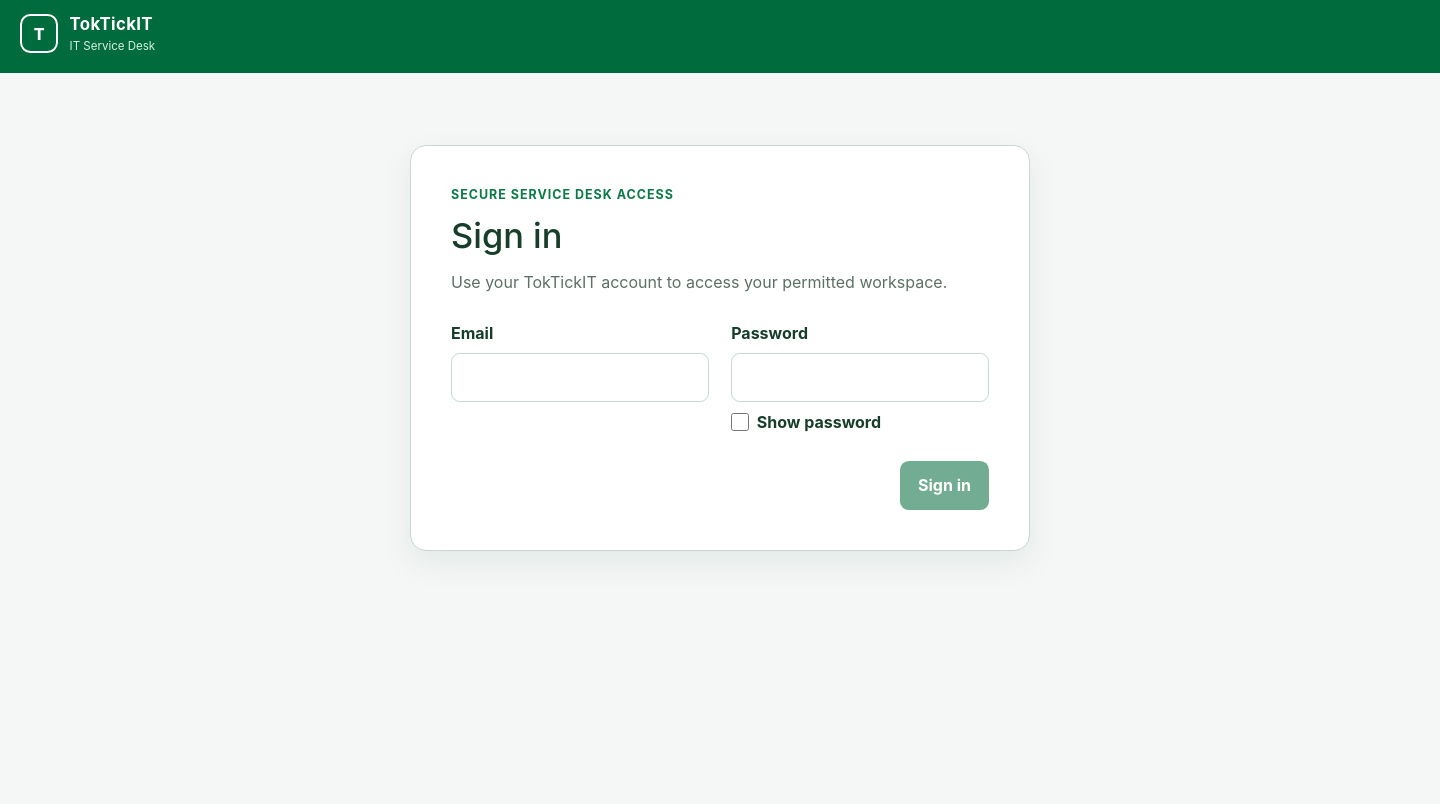
Create Ticket › keeps submission disabled while Ticket reference data is loading
This screenshot has width=1440, height=804.
Type "amina@example.test" into the field labelled "Email" at (580, 378), box [451, 353, 709, 402]
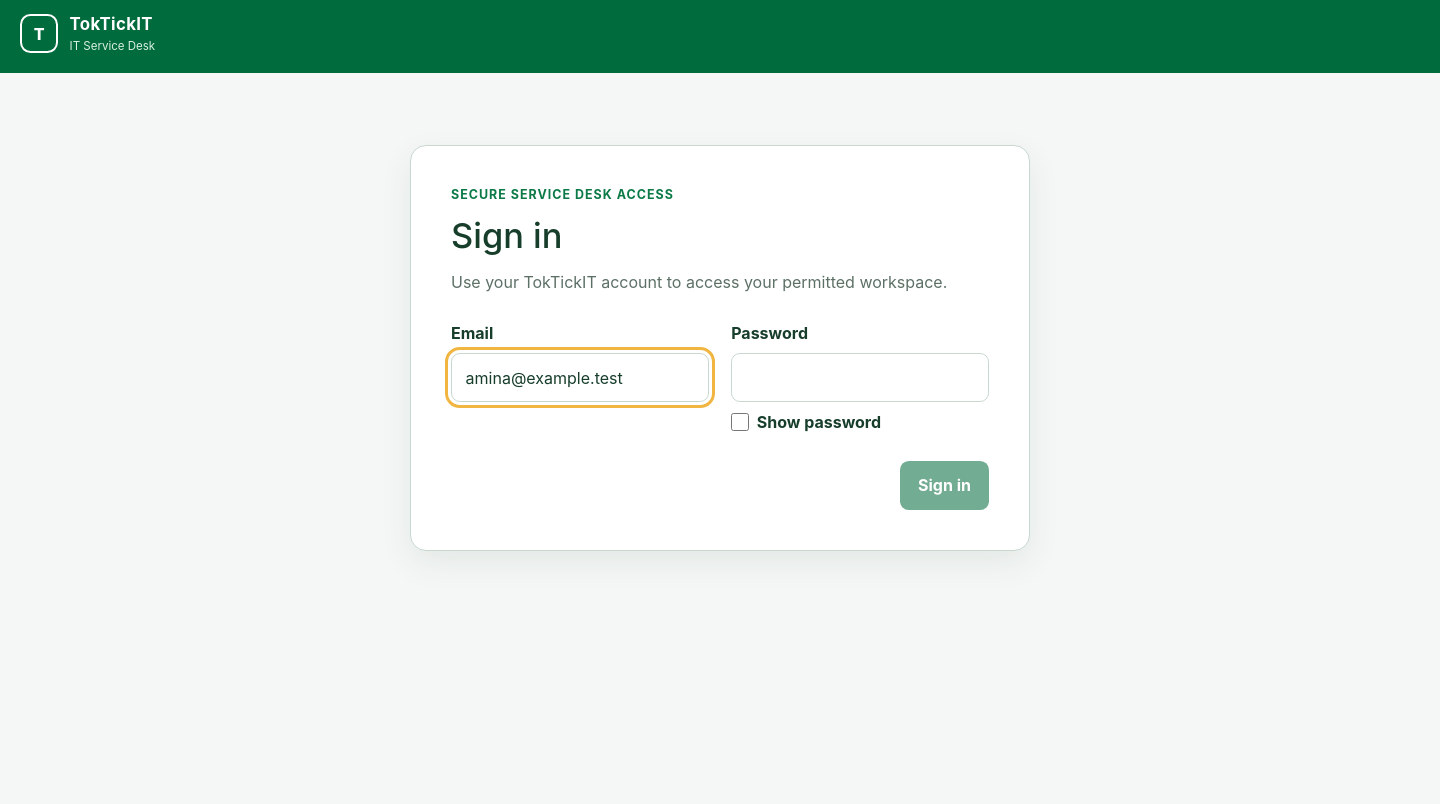
Type "Initial-Lab3!Password" into the password field labelled "Password" at (860, 378), box [731, 353, 989, 402]
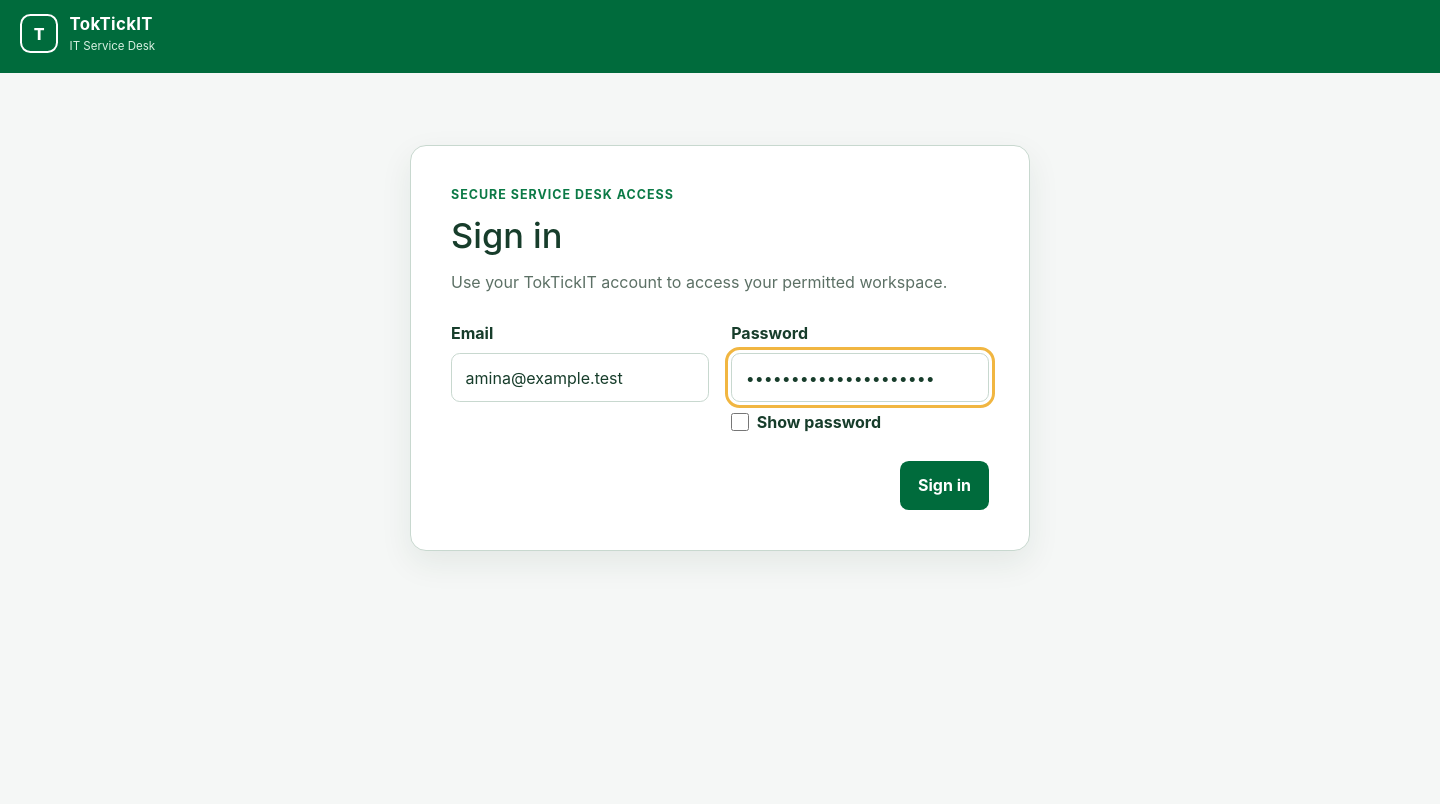
Click the button "Sign in" at (944, 485), box [900, 461, 989, 510]
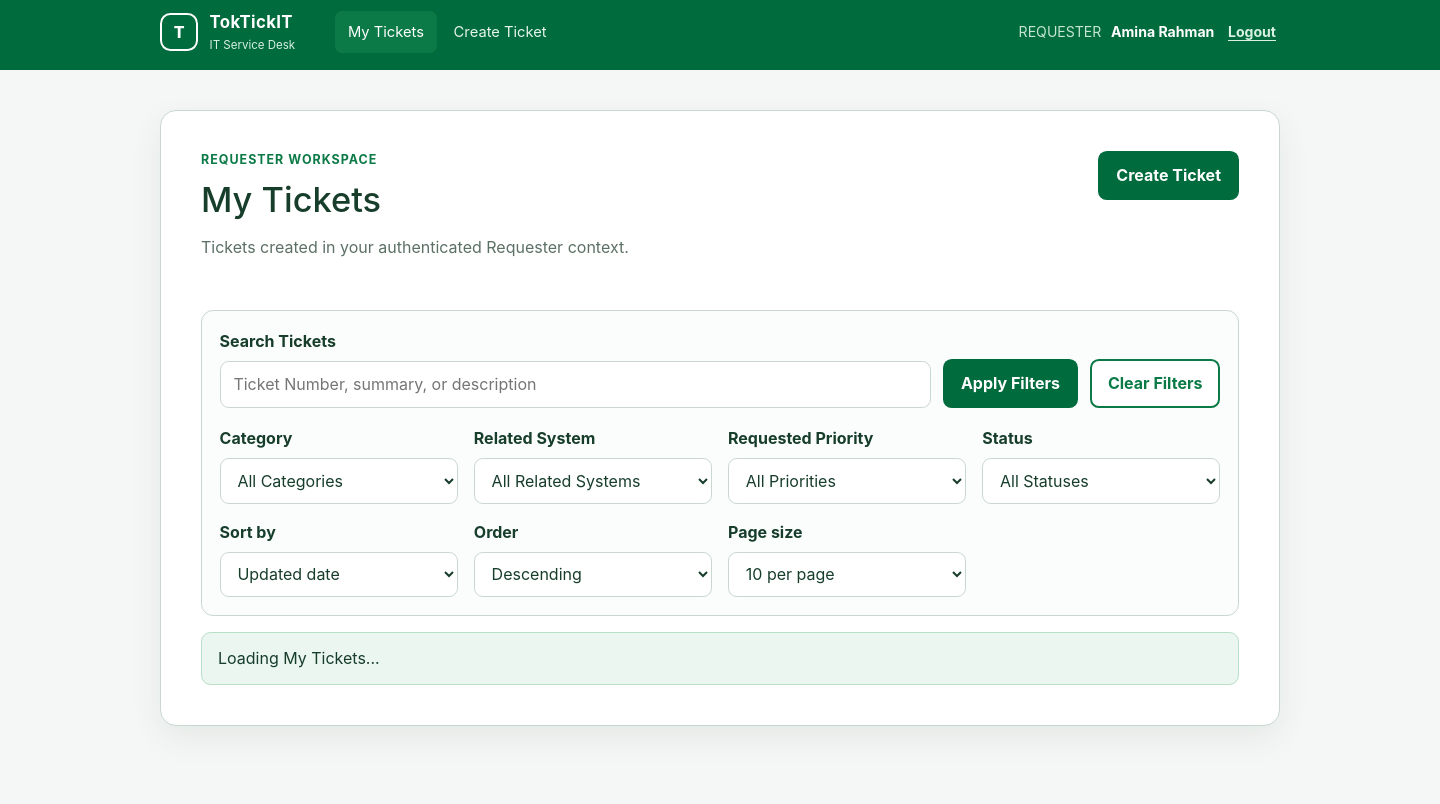
Click the link with aria-label "Create Ticket from My Tickets" at (1169, 175), box [1098, 151, 1239, 200]
(page scrolled)
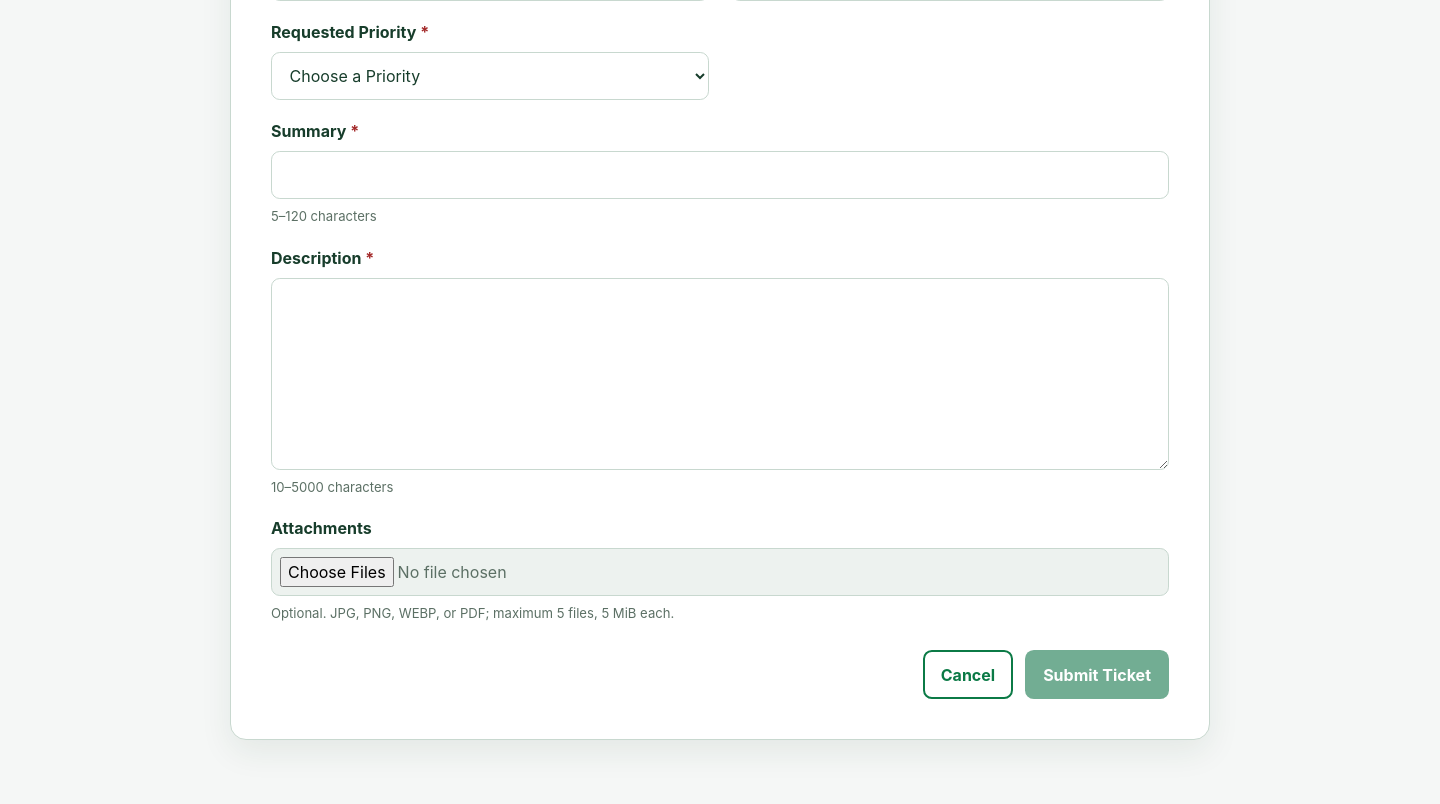
Result: the button "Submit Ticket" is disabled at [1025, 650, 1169, 699]
